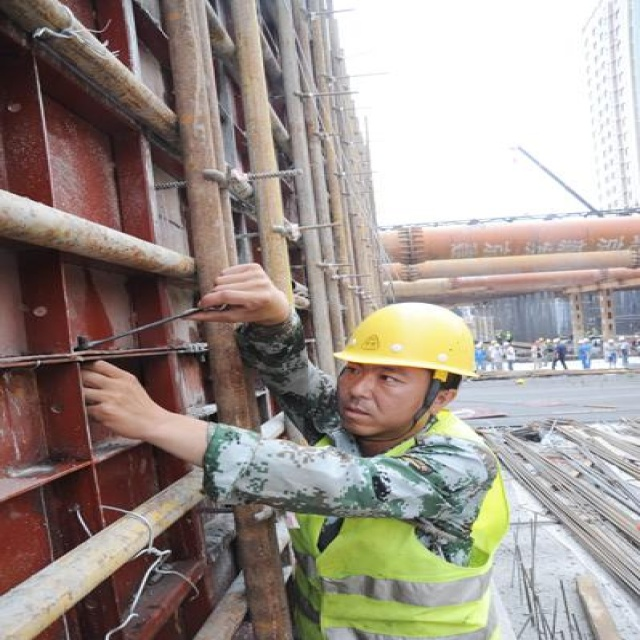Helmet: (314, 284, 499, 459)
Reflective vest: (296, 410, 512, 640)
